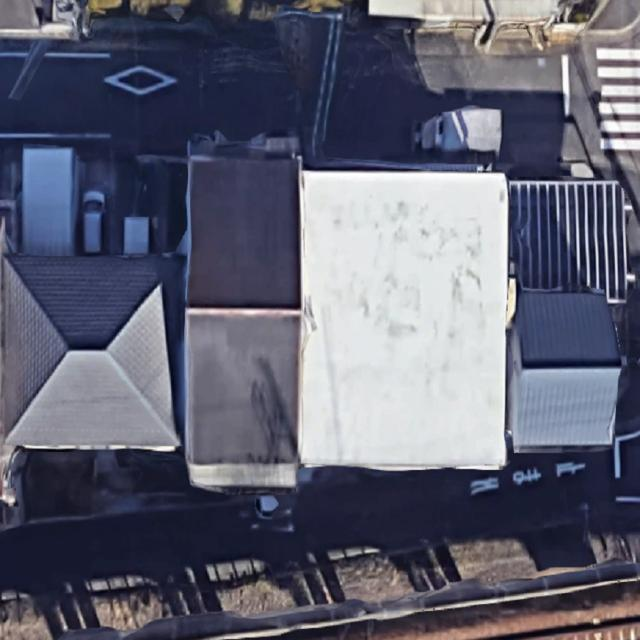Batiment: (300, 172, 509, 469), (185, 136, 301, 487), (0, 255, 179, 449), (509, 291, 621, 451)
